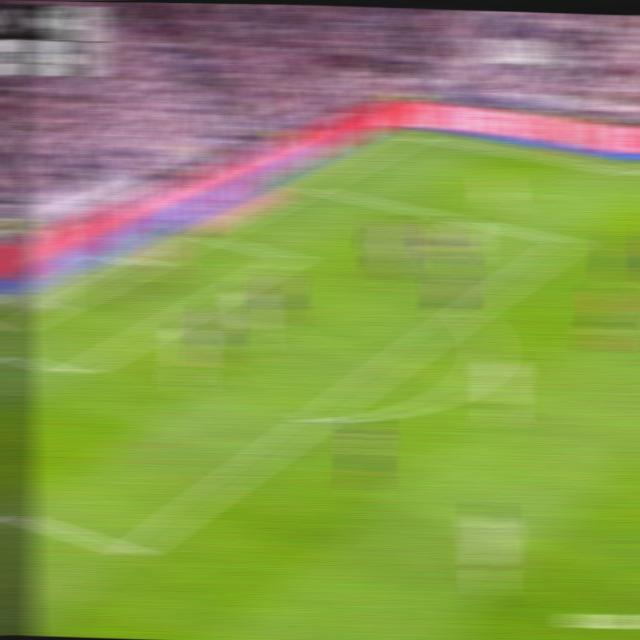bigarea_bottom_inner: (115, 533, 148, 570)
bigarea_top_inner: (555, 229, 581, 252)
bigarea_top_outter: (298, 177, 323, 194)
bottom_arc_area_intersection: (302, 402, 334, 433)
corner: (400, 128, 429, 142)
smallarea_bottom_inner: (60, 360, 88, 386)
smallarea_top_inner: (276, 247, 302, 266)
top_arc_area_intersection: (452, 301, 480, 322)
